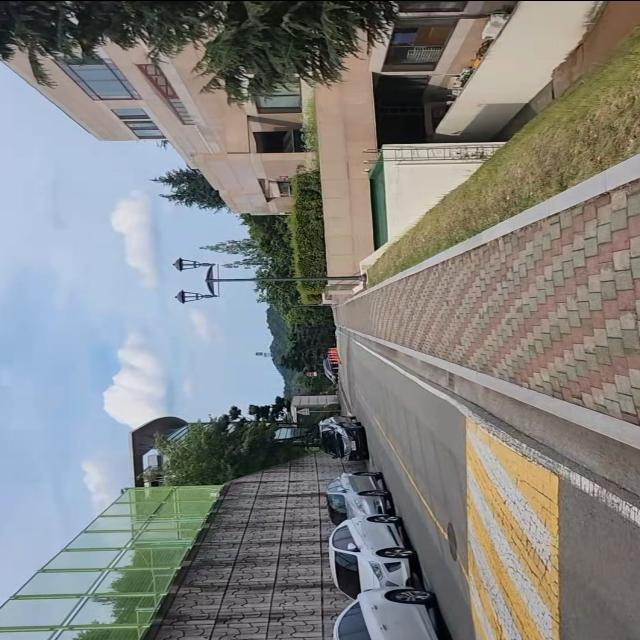road: (339, 330, 640, 640)
sidewalk: (336, 154, 640, 444)
